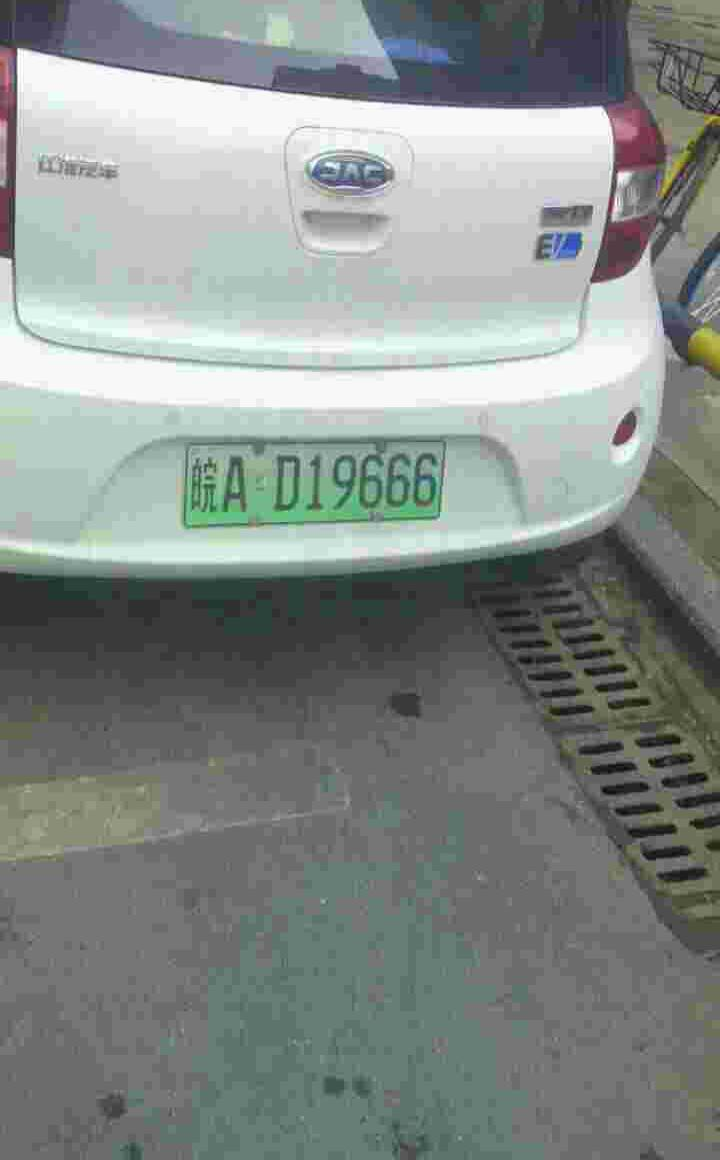car_id: (182, 439, 440, 522)
